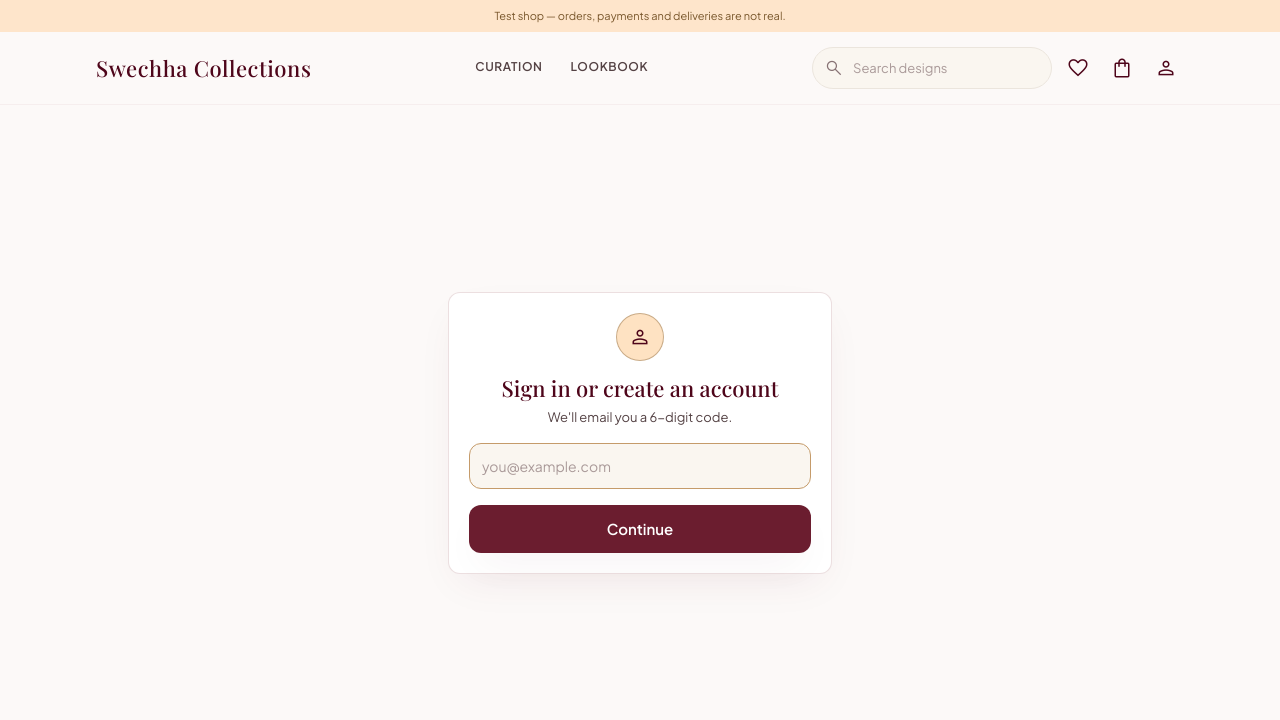
Test: /login › shows the wrong-code message and clears the boxes
The width and height of the screenshot is (1280, 720).
In the field with placeholder "you@example.com": (640, 466) left=469, top=443, right=811, bottom=489, type "ana@example.com"
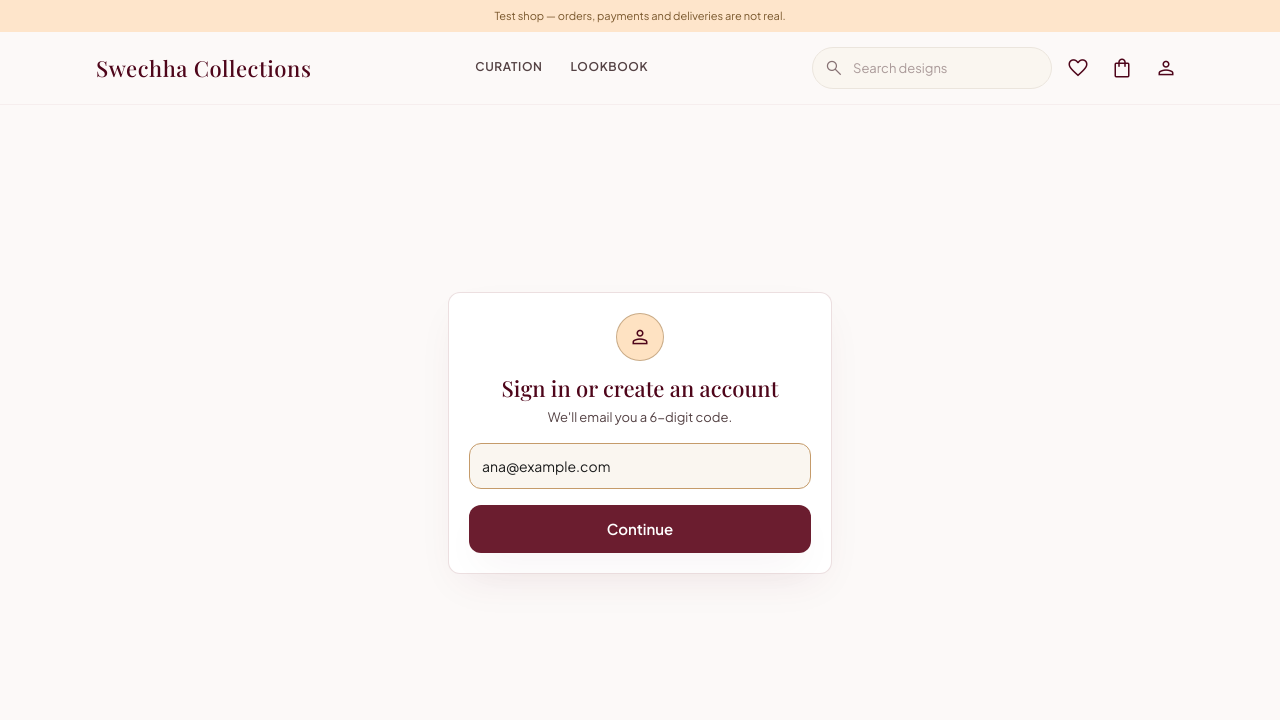
Click the button "Continue": (640, 529) left=469, top=505, right=811, bottom=553
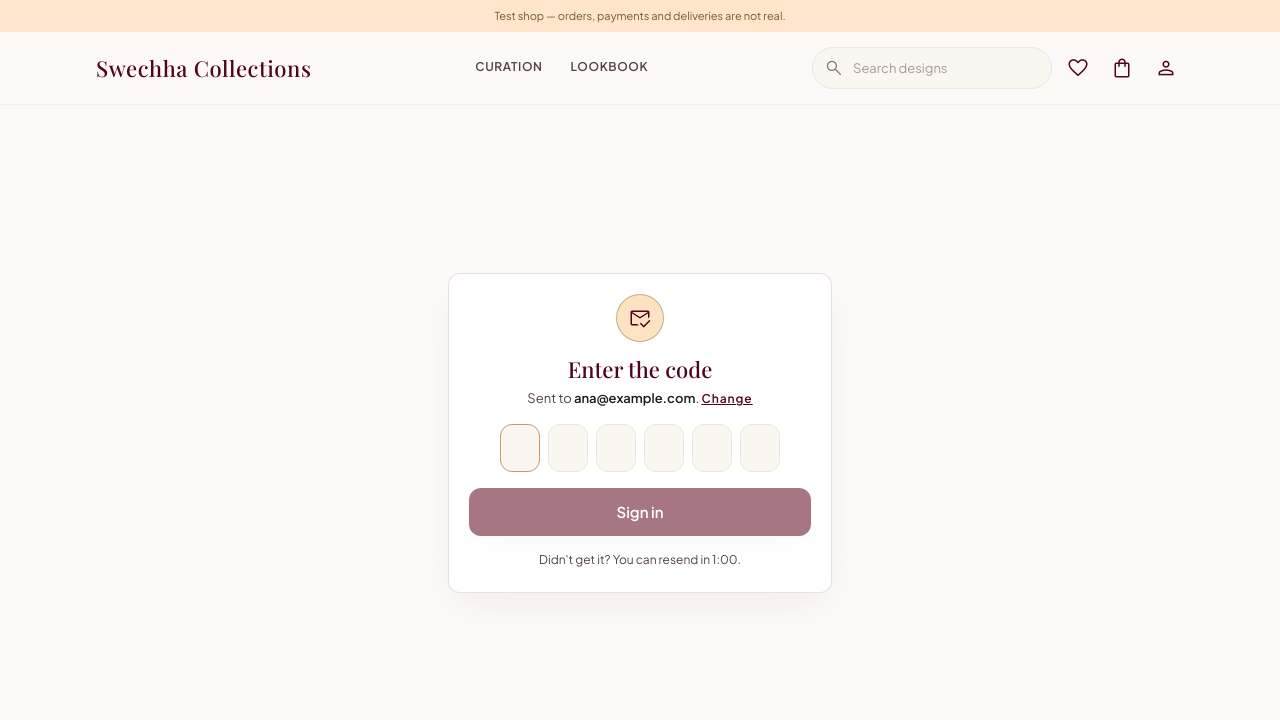
In the field named "Digit 1 of 6": (520, 448) left=500, top=424, right=540, bottom=472, type "000000"
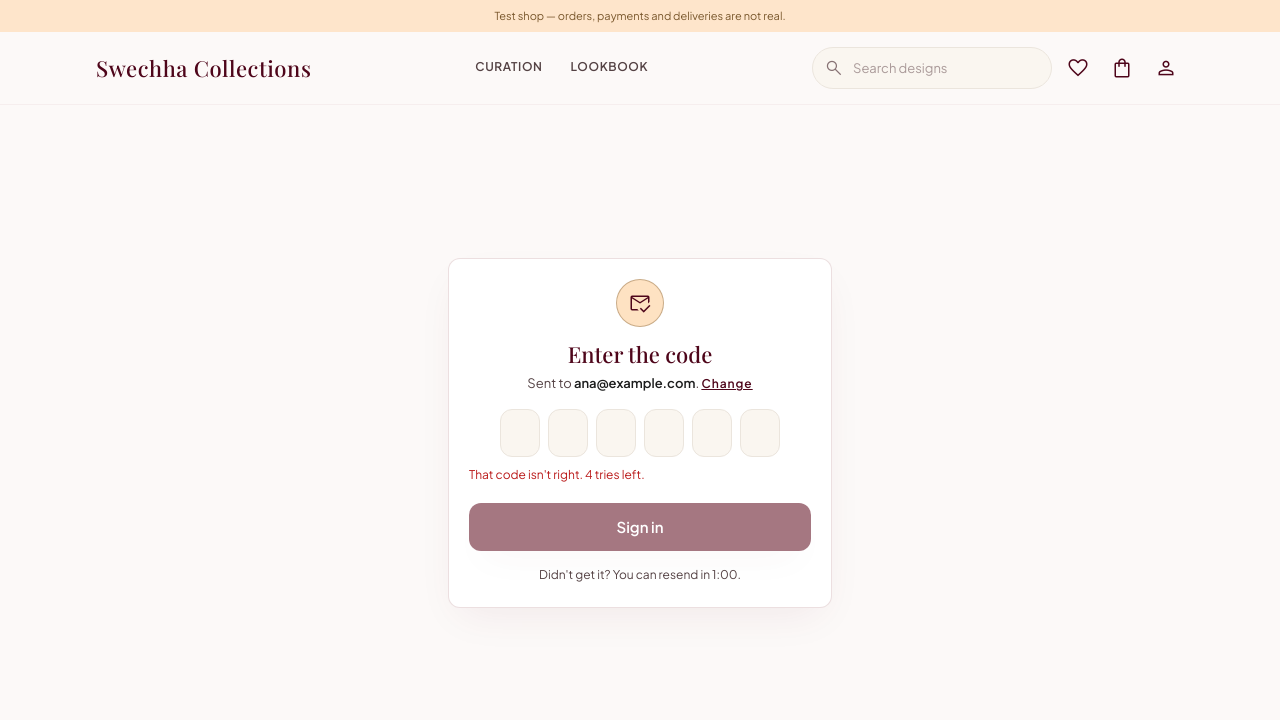
Expected: the field named "Digit 1 of 6" is empty, left=500, top=409, right=540, bottom=457
Expected: the message reads "That code isn't right. 4 tries left.", left=469, top=467, right=645, bottom=482
